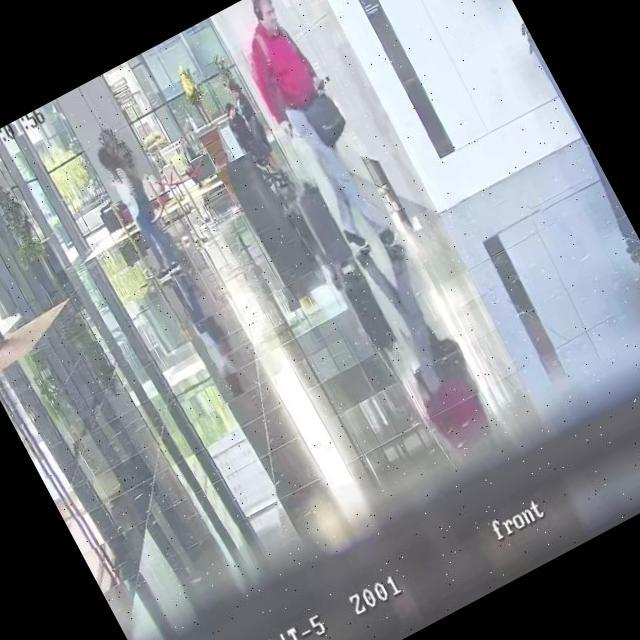person: (216, 0, 407, 268), (90, 139, 185, 282), (222, 75, 284, 174), (220, 99, 262, 158), (170, 134, 212, 190)
